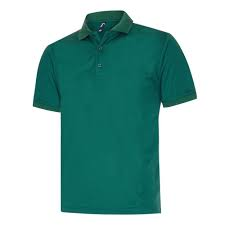C_polo shirt: (36, 11, 200, 213)
